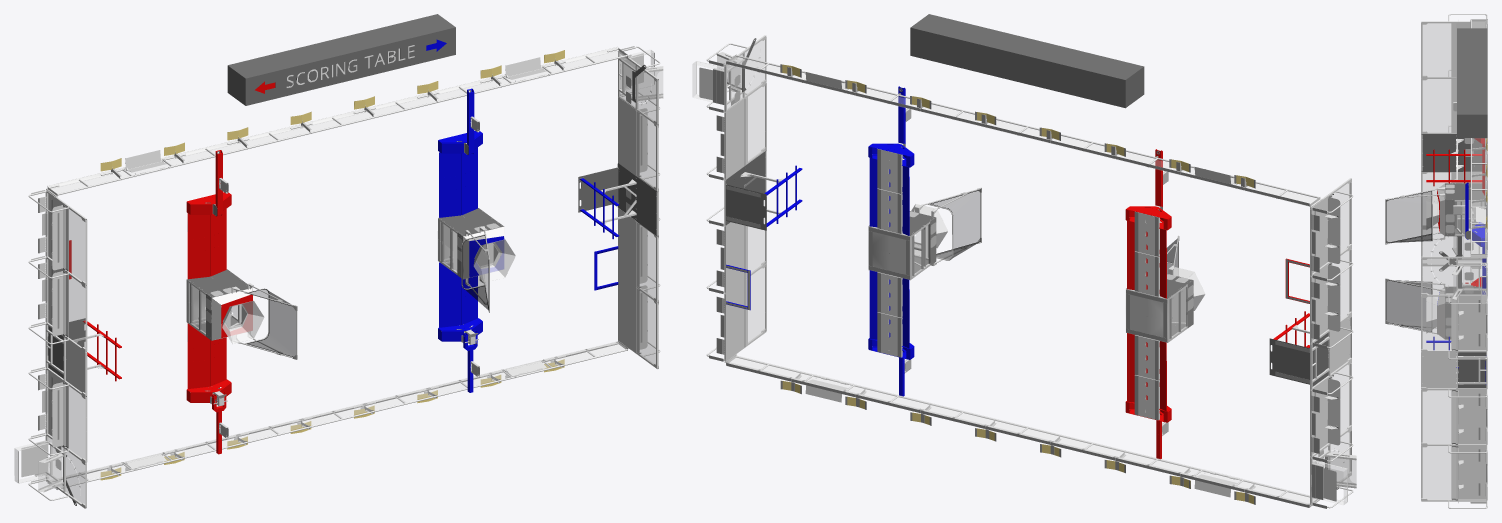
Rendered from field.glb.
The picture shows the model from 3 angles, left to right: view 1: azimuth 30°, elevation 25°; view 2: azimuth 150°, elevation 25°; view 3: azimuth 270°, elevation 25°; orthographic projection. The views are drawn at different scales.
Visible parts, largest first — view 1: GE-26203-01: Trench AprilTag Mount, GE-26010: Outpost Exchange Border, 6303K57: Lever Handle with Ball Knob, GE-26213: Trench Side Skirt, GE-26101: Bump Plastic, GE-26207-01: Trench Hinged Riser Top, GE-26318: Hub Net (Aesthetic), 62805K41: Rigid Leveling Mount, Body, FE-00015: Trip Guard, 34.5in Long 2in Wide White Gaff Tape, GE-26329: Hub Funnel Side, Hook Tape, 4in Wide, 41.87in Long (+6 smaller); view 2: GE-26203-01: Trench AprilTag Mount, GE-26010: Outpost Exchange Border, 6303K57: Lever Handle with Ball Knob, Hook Tape, 4in Wide, 41.87in Long, GE-26213: Trench Side Skirt, 62805K41: Rigid Leveling Mount, Body, GE-26101: Bump Plastic, GE-26207-01: Trench Hinged Riser Top, FE-00015: Trip Guard, GE-26318: Hub Net (Aesthetic), GE-26219: Trench Top Hard Stop, FE-00083-ID22-Vinyl: AprilTag Vinyl (+2 smaller); view 3: GE-26010: Outpost Exchange Border, GE-26203-01: Trench AprilTag Mount, 6303K57: Lever Handle with Ball Knob, GE-26318: Hub Net (Aesthetic), 34.5in Long 2in Wide White Gaff Tape, GE-26506: Tower Upper Plastic, GE-26511-Vinyl: Tower Upper Plastic Vinyl, 62805K41: Rigid Leveling Mount, Body, FE-00083-ID22-Vinyl: AprilTag Vinyl, GE-26329: Hub Funnel Side, GE-26101: Bump Plastic, GE-26213: Trench Side Skirt (+6 smaller).
Boxes of the visible parts, x1,y1,x2,y2 form: GE-26203-01: Trench AprilTag Mount: (21,46,663,508); GE-26010: Outpost Exchange Border: (14,50,662,503); 6303K57: Lever Handle with Ball Knob: (47,14,646,505); GE-26213: Trench Side Skirt: (426,39,619,392); GE-26101: Bump Plastic: (69,81,275,454); GE-26207-01: Trench Hinged Riser Top: (52,108,647,447); GE-26318: Hub Net (Aesthetic): (247,235,488,356); 62805K41: Rigid Leveling Mount, Body: (34,54,631,476); FE-00015: Trip Guard: (100,50,564,480); 34.5in Long 2in Wide White Gaff Tape: (18,45,654,483); GE-26329: Hub Funnel Side: (222,239,515,343); Hook Tape, 4in Wide, 41.87in Long: (38,70,642,473); GE-26203-01: Trench AprilTag Mount: (699,35,1356,508); GE-26010: Outpost Exchange Border: (692,37,1356,504); 6303K57: Lever Handle with Ball Knob: (726,14,1338,489); Hook Tape, 4in Wide, 41.87in Long: (709,60,1326,508); GE-26213: Trench Side Skirt: (726,86,914,396); 62805K41: Rigid Leveling Mount, Body: (713,67,1324,499); GE-26101: Bump Plastic: (1125,149,1309,459); GE-26207-01: Trench Hinged Riser Top: (731,99,1340,445); FE-00015: Trip Guard: (782,64,1253,504); GE-26318: Hub Net (Aesthetic): (930,189,1178,273); GE-26219: Trench Top Hard Stop: (889,217,1193,338); FE-00083-ID22-Vinyl: AprilTag Vinyl: (734,74,1323,484); GE-26010: Outpost Exchange Border: (1421,21,1487,499); GE-26203-01: Trench AprilTag Mount: (1421,14,1487,508); 6303K57: Lever Handle with Ball Knob: (1439,28,1487,500); GE-26318: Hub Net (Aesthetic): (1386,191,1431,331); 34.5in Long 2in Wide White Gaff Tape: (1451,23,1481,499); GE-26506: Tower Upper Plastic: (1421,352,1456,388); GE-26511-Vinyl: Tower Upper Plastic Vinyl: (1421,134,1456,171); 62805K41: Rigid Leveling Mount, Body: (1385,141,1487,333); FE-00083-ID22-Vinyl: AprilTag Vinyl: (1445,103,1485,336); GE-26329: Hub Funnel Side: (1426,189,1439,333); GE-26101: Bump Plastic: (1426,138,1484,286); GE-26213: Trench Side Skirt: (1426,182,1486,384).
Size of what is drawn, in the model's own units: 18.46 by 10.65 by 3.06.
